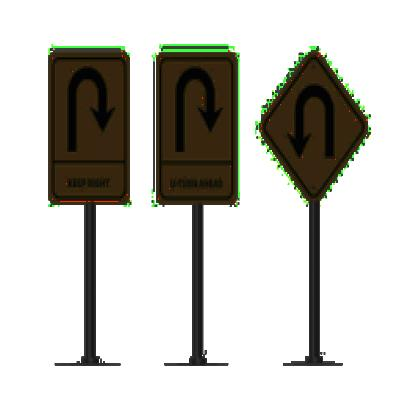U-turn: (264, 54, 371, 200), (54, 54, 127, 160), (164, 55, 230, 160)
